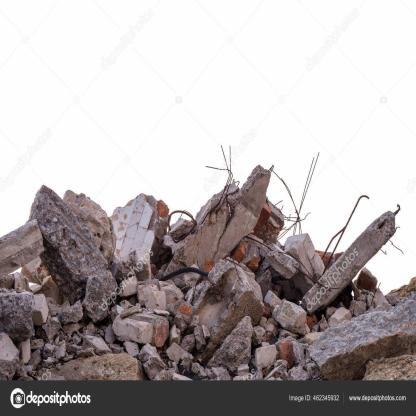rebar: (245, 187, 375, 284), (165, 140, 234, 247), (270, 145, 320, 245), (391, 201, 400, 219)
